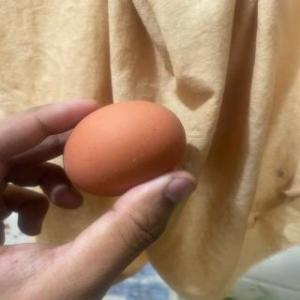egg: (63, 100, 188, 195)
